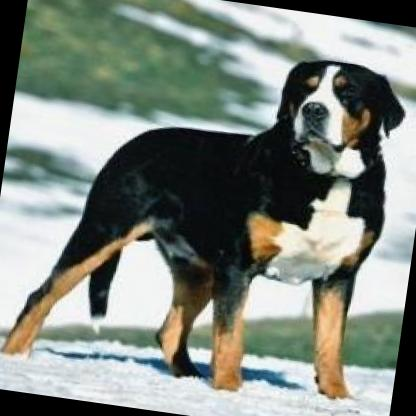Greater_Swiss_Mountain_dog: (0, 19, 411, 409)
